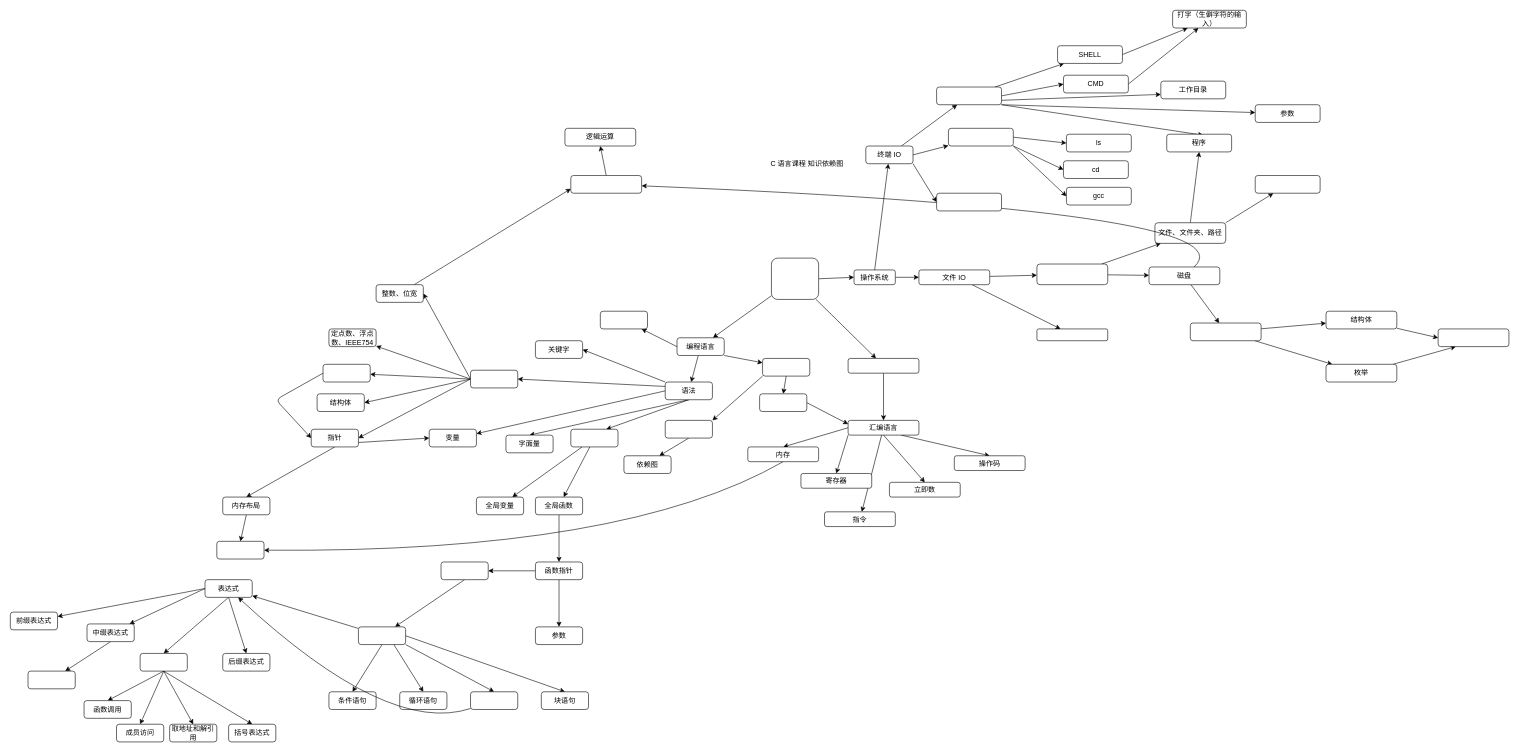
The diagram is 1519 pixels wide and 752 high, and some of its shapes have lost their labels. Here are the shapes that lost their labels. From the top down, the centre of each, then its label:
At [969,95]: "终端的基本概念".
At [980,137]: "常用的终端操作".
At [606,184]: "二进制".
At [969,202]: "终端 API".
At [1287,184]: "文本文件".
At [795,278]: "最终目标：五子棋游戏".
At [1072,274]: "文件系统基础".
At [624,320]: "接口".
At [1072,334]: "文件IO接口".
At [1225,331]: "数据结构基础".
At [1473,337]: "变量、常量、表达式".
At [346,373]: "C字符串".
At [494,379]: "类型系统".
At [786,367]: "构建".
At [883,365]: "计算".
At [783,402]: "编译链接".
At [594,438]: "全局声明".
At [688,429]: "Makefile".
At [240,550]: "堆栈".
At [464,570]: "函数体".
At [382,635]: "语句".
At [51,680]: "二元算术和逻辑运算".
At [163,662]: "主表达式".
At [494,700]: "表达式语句".
